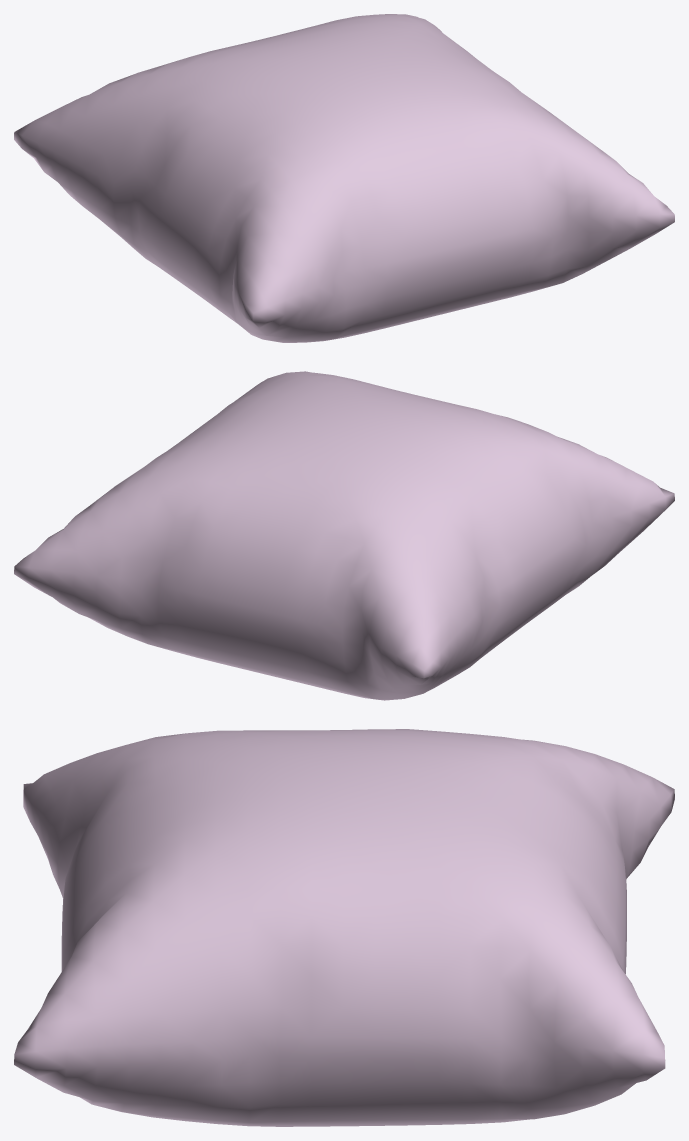
Rendered from pillow new red.fbx.
The picture shows the model from 3 angles, top to bottom: view 1: azimuth 30°, elevation 25°; view 2: azimuth 150°, elevation 25°; view 3: azimuth 270°, elevation 25°; orthographic projection. The views are drawn at different scales.
Visible parts, largest first — view 1: Plane; view 2: Plane; view 3: Plane.
Part boxes in pixels (x1,y1,x2,y2): Plane: (14,14,674,342); Plane: (14,371,674,700); Plane: (14,729,674,1126).
Bounding box in the file's own units: 54.15 × 24.19 × 55.14.
